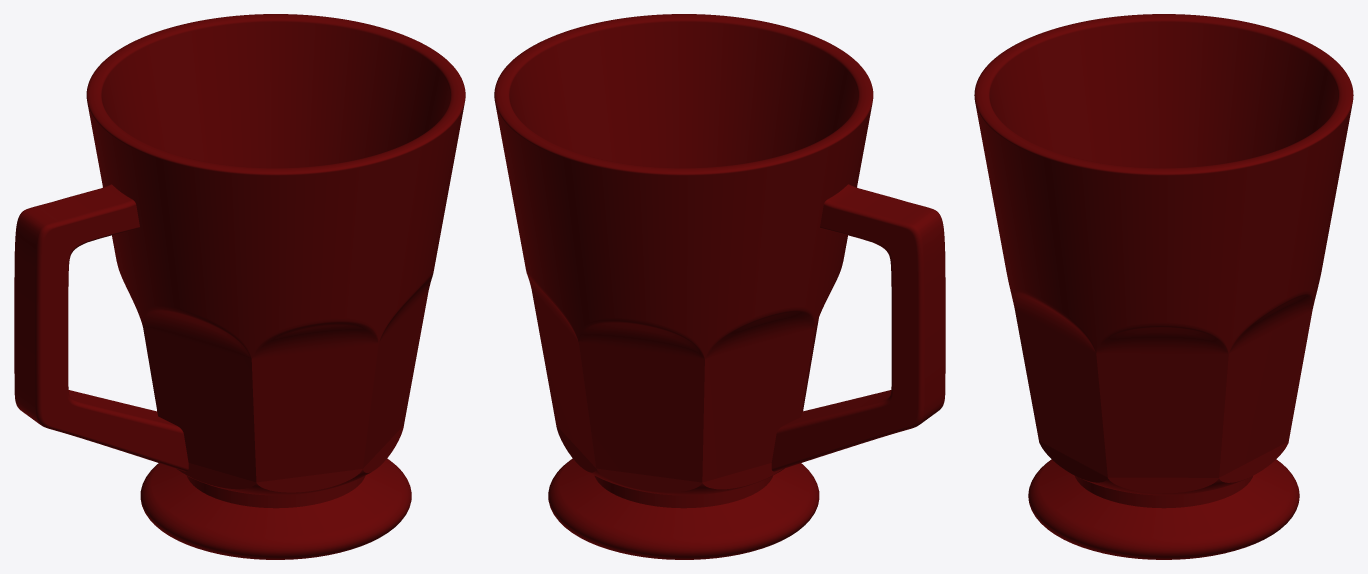
3 views of the same model, side by side, from view 1: azimuth 30°, elevation 25°; view 2: azimuth 150°, elevation 25°; view 3: azimuth 270°, elevation 25° (orthographic).
Bounding box in the file's own units: 0.0848 × 0.0816 × 0.067.
